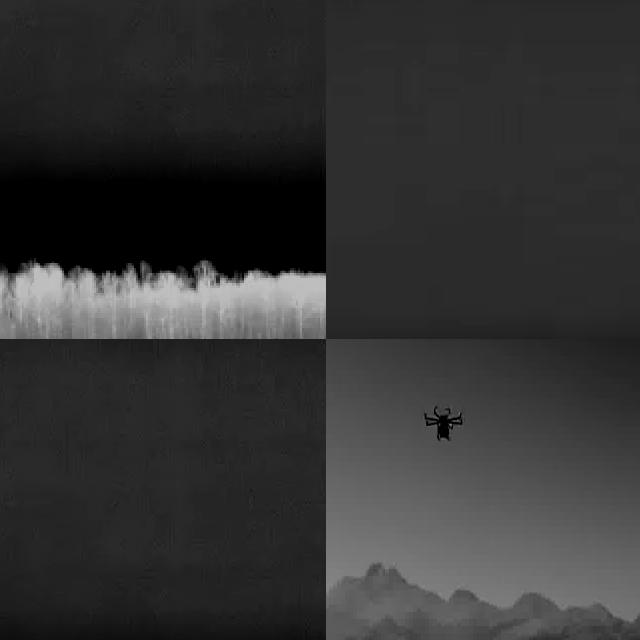drone: (419, 398, 463, 451)
